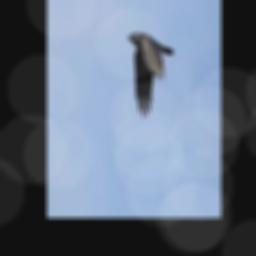Crow: (127, 33, 174, 119)
